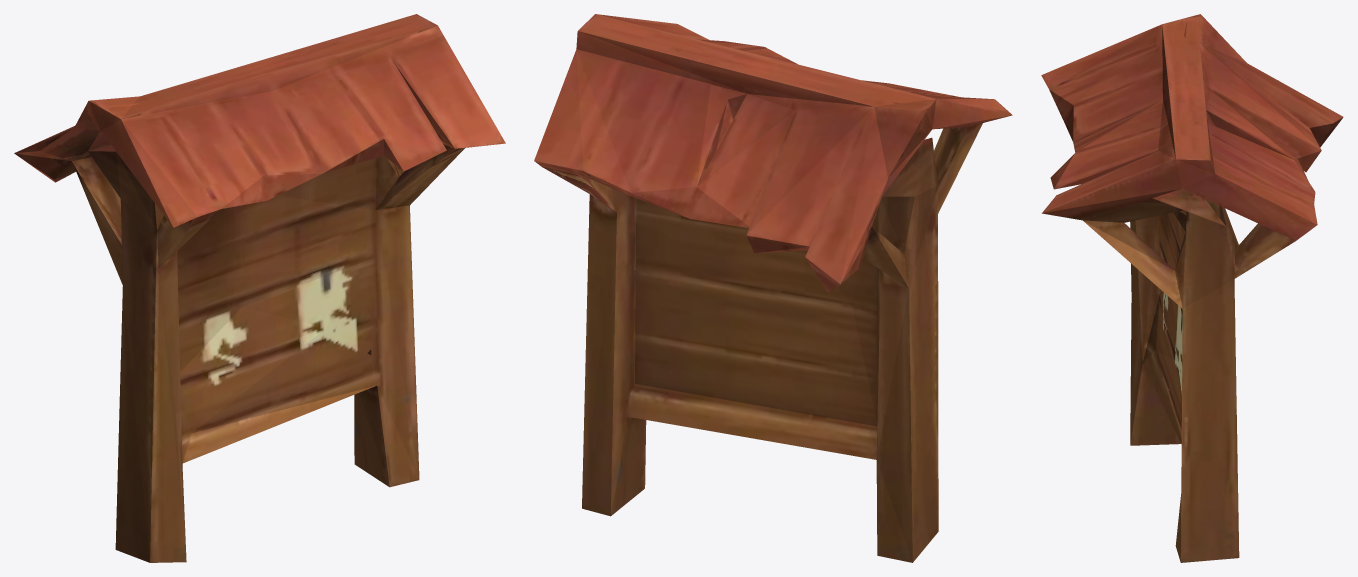
The model's file is wanted-board.glb.
3 renders of one model, left to right at view 1: azimuth 30°, elevation 25°; view 2: azimuth 150°, elevation 25°; view 3: azimuth 270°, elevation 25°, orthographic. The views are drawn at different scales.
Parts seen in each view (by area): view 1: wanted-board; view 2: wanted-board; view 3: wanted-board.
Boxes of the visible parts, x1=… form: wanted-board: x1=14, y1=14, x2=505, y2=562; wanted-board: x1=534, y1=14, x2=1012, y2=562; wanted-board: x1=1041, y1=14, x2=1343, y2=562.
Bounding box in the file's own units: 1.79 × 2.3 × 1.54.
Materials: 1 (1 with a texture image).
